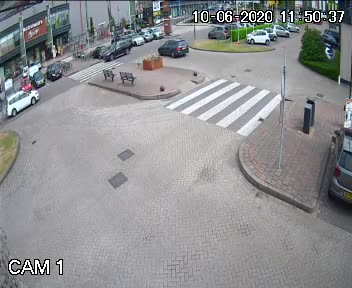car: (150, 34, 193, 59), (1, 87, 44, 112), (93, 39, 136, 60)
